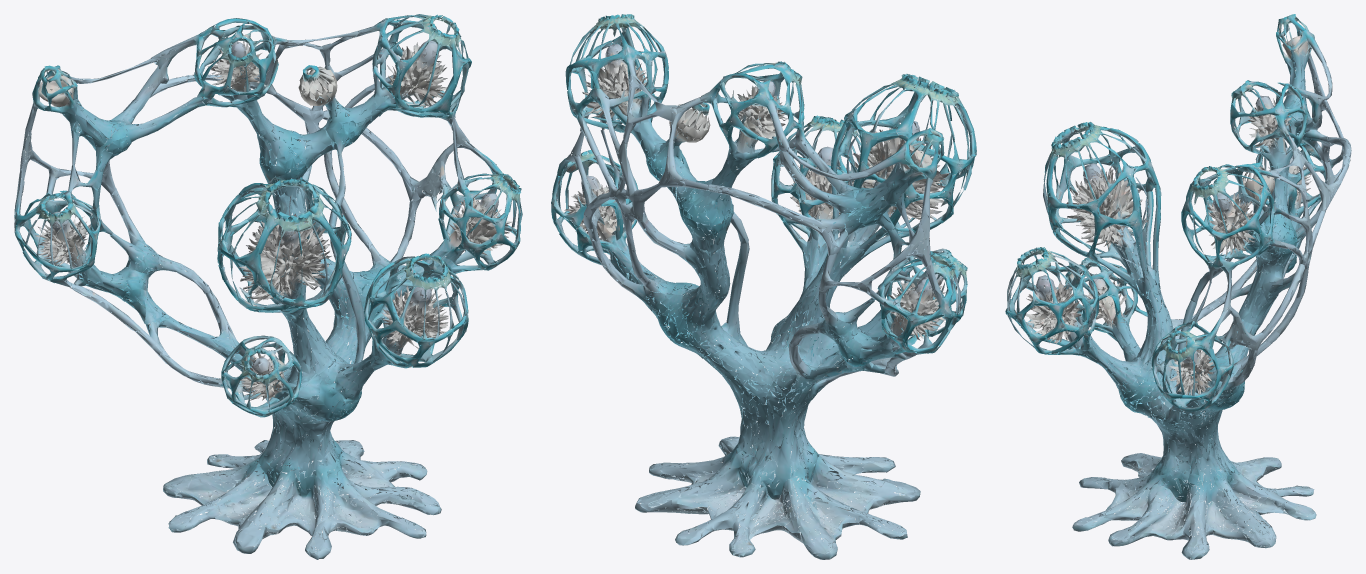
Rendered from category-3.glb.
3 views of the same model, side by side, from view 1: azimuth 30°, elevation 25°; view 2: azimuth 150°, elevation 25°; view 3: azimuth 270°, elevation 25° (orthographic). The views are drawn at different scales.
Parts seen in each view (by area): view 1: tripo_node_c589e15f; view 2: tripo_node_c589e15f; view 3: tripo_node_c589e15f.
Part boxes in pixels (left/top/right/bottom): tripo_node_c589e15f: left=14, top=14, right=522, bottom=559; tripo_node_c589e15f: left=551, top=14, right=976, bottom=559; tripo_node_c589e15f: left=1005, top=14, right=1351, bottom=559.
Bounding box in the file's own units: 0.9812 × 0.9714 × 0.7361.
Materials: 1 (1 with a texture image).
